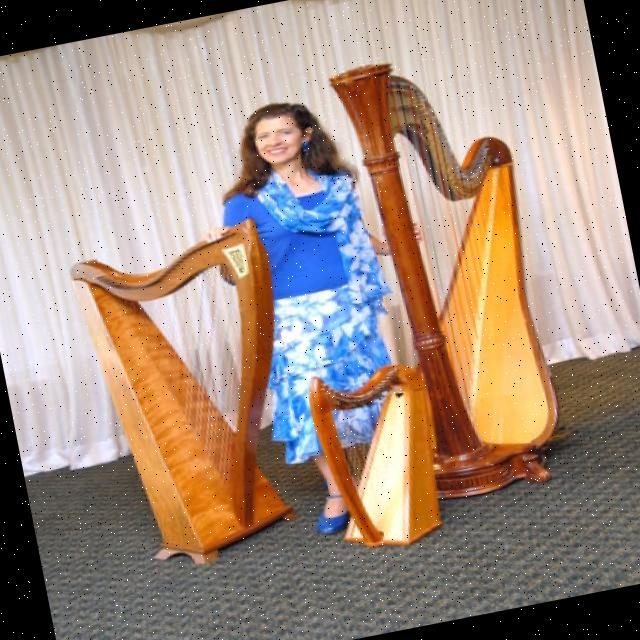harp: (316, 37, 595, 518), (69, 209, 324, 582), (268, 352, 467, 564)
